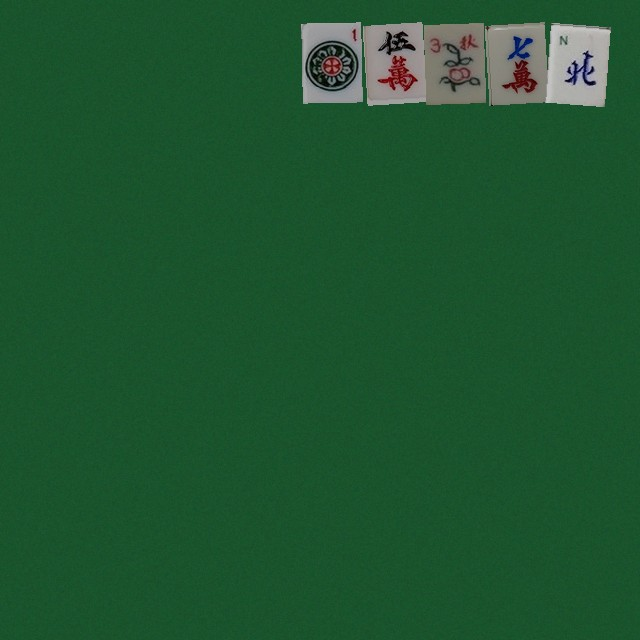tile: (301, 22, 361, 102), (362, 22, 422, 102), (423, 22, 483, 102), (484, 22, 544, 102), (545, 22, 605, 102)
